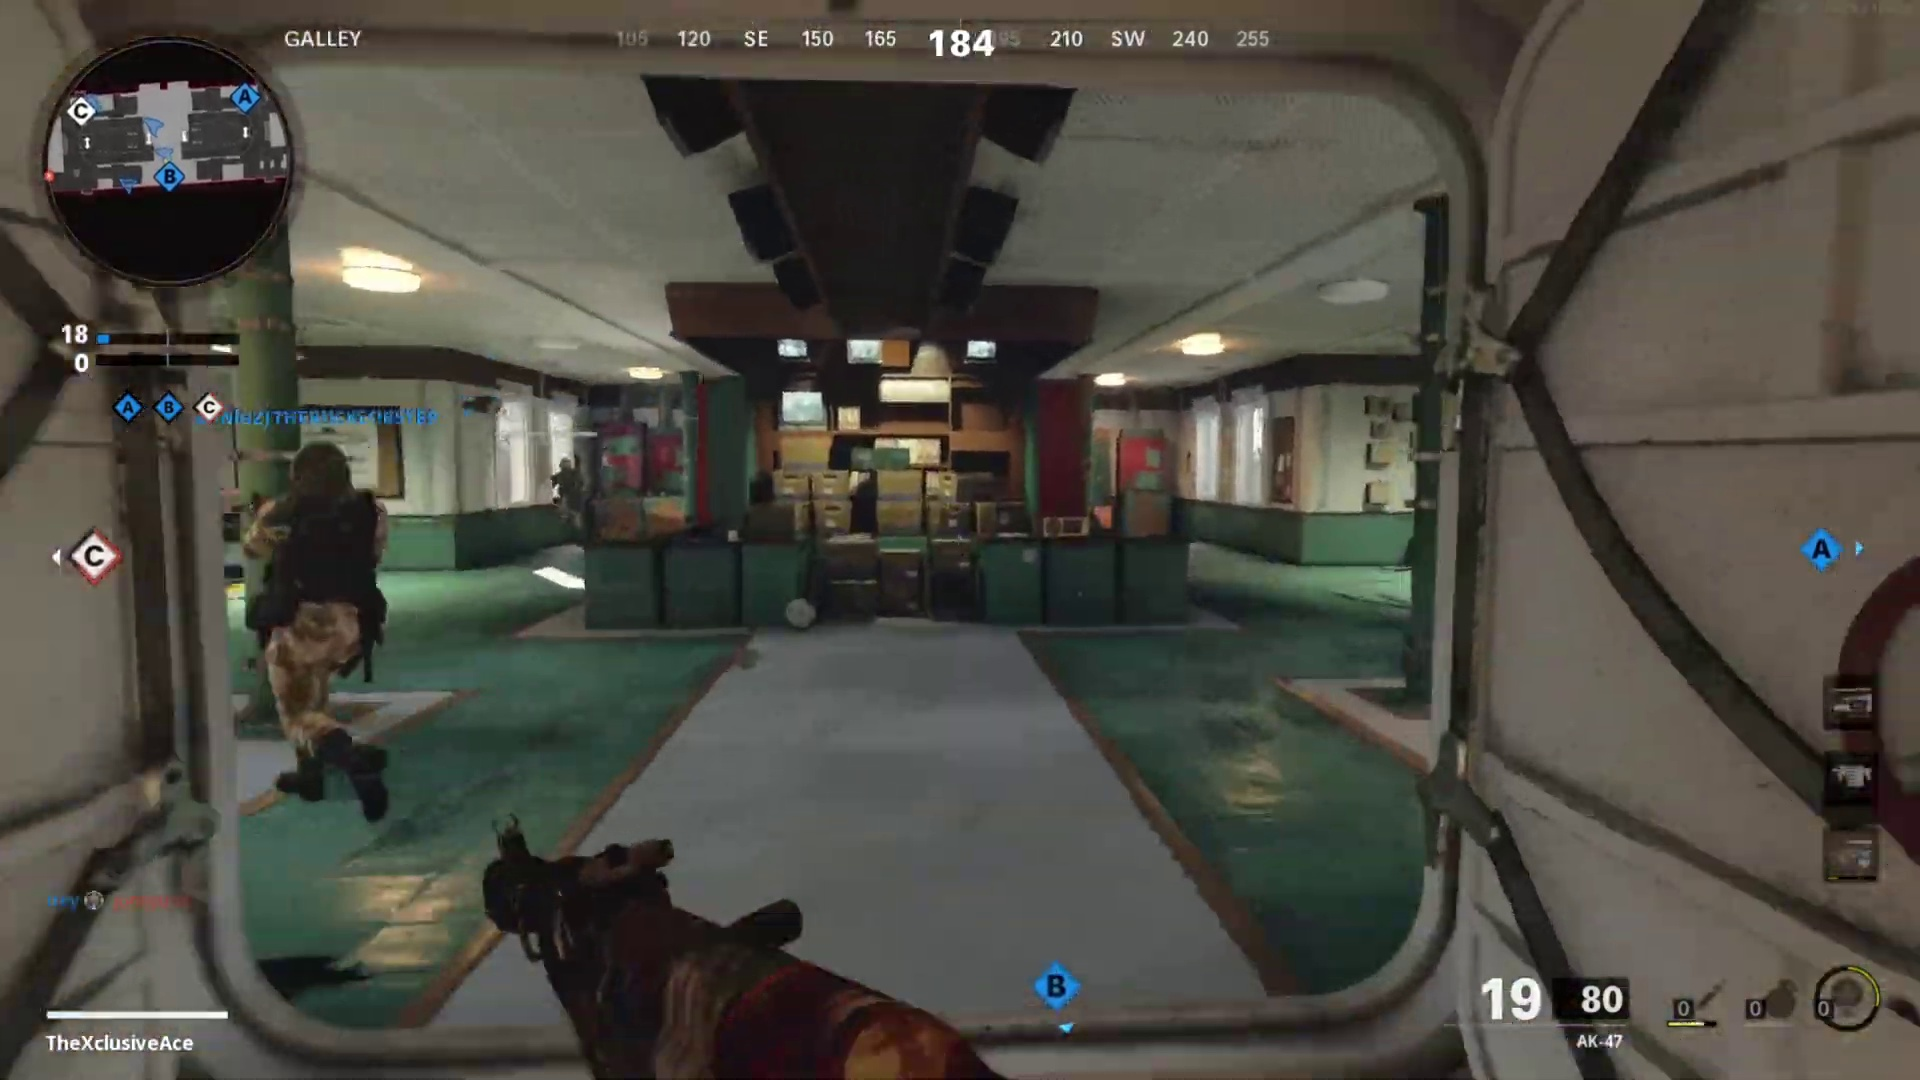head: (290, 445, 353, 498), (553, 450, 577, 479)
person: (246, 440, 384, 729), (546, 454, 583, 530)
